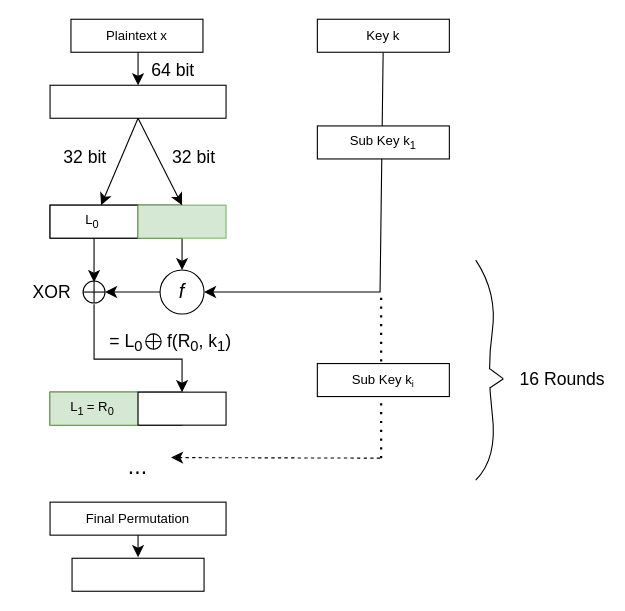
This 625x611 diagram has some shape labels left out. The shapes that lost their labels are listed below. From the top down, each one's centre as x and y in pixels, then its label:
At (x=137, y=101): "Initial Permutation".
At (x=181, y=221): "R 0".
At (x=181, y=408): "R 1".
At (x=137, y=574): "Ciphertext y".
